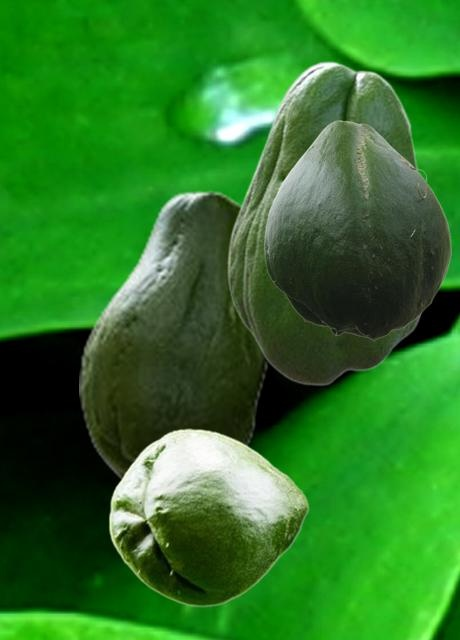sayote: (227, 61, 424, 385), (79, 190, 268, 482), (264, 120, 450, 340), (108, 428, 308, 606)
